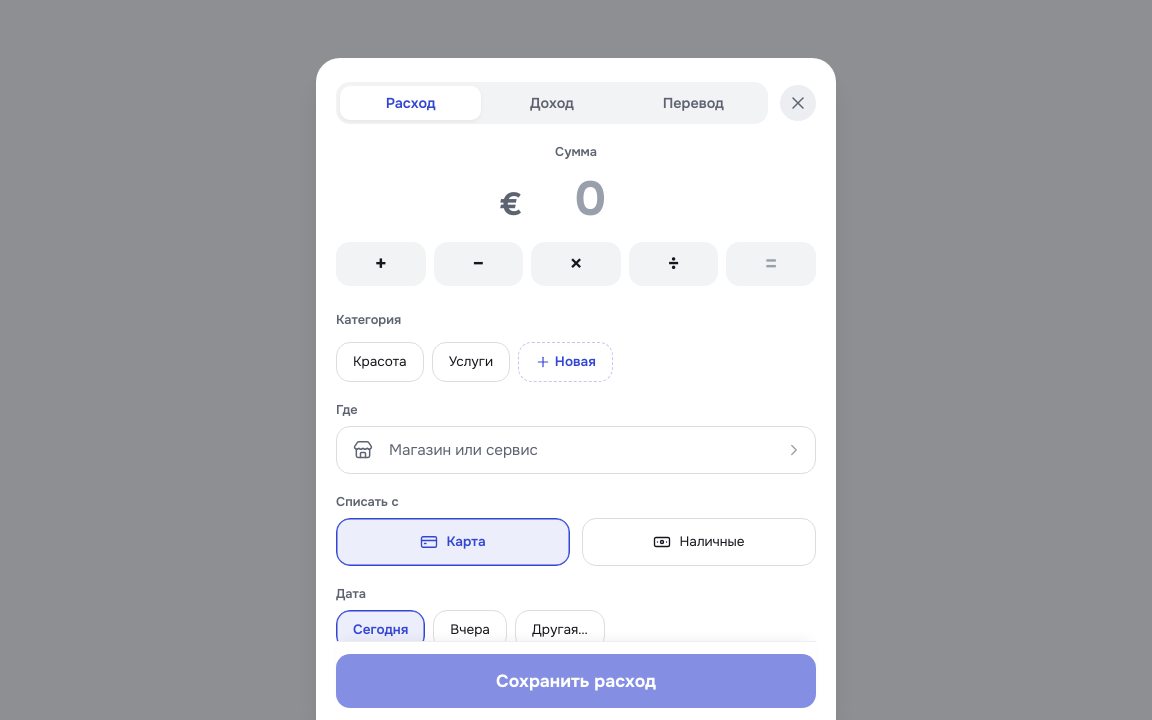
separate company selection and transaction comments › reuses a historical category override from a company suggestion, leaving the comment separate
This screenshot has width=1152, height=720.
Later steps or results of the test are not shown.
Type "34" into the field with placeholder "0" at (590, 199), box [526,168,653,230]
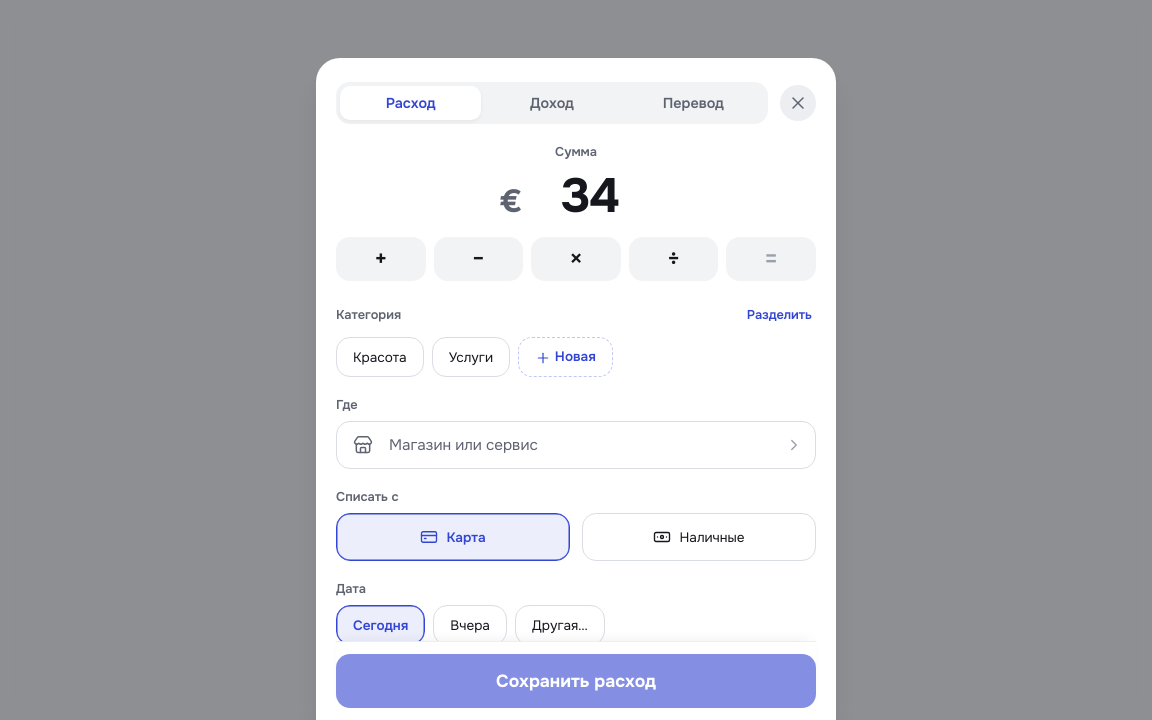
Click the button "Красота" at (380, 357), box [336,337,424,377]
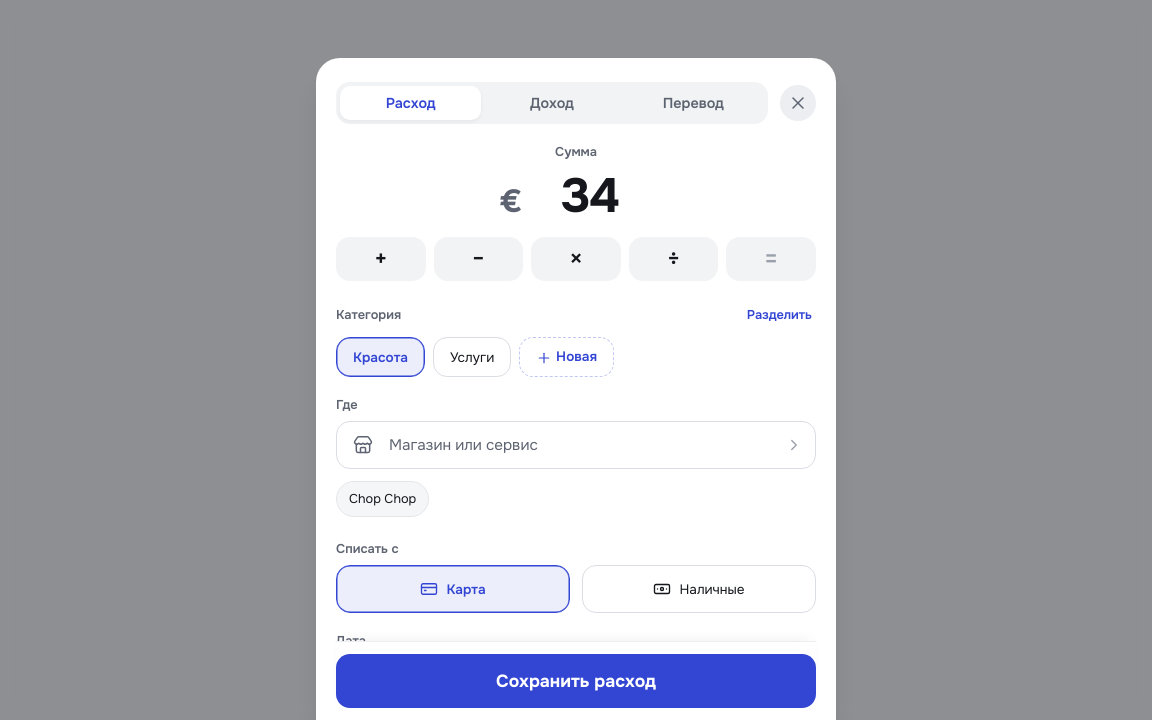
Click the button "Магазин или сервис" at (463, 445), box [336,421,816,469]
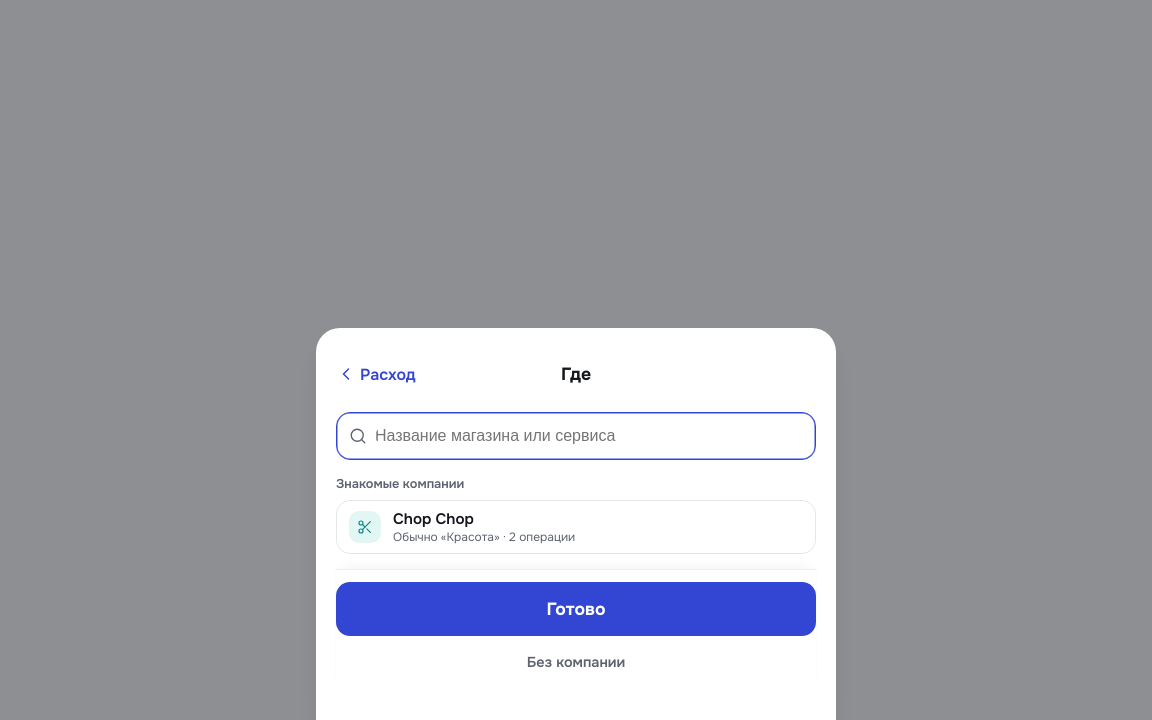
Click the button "Chop Chop Обычно «Красота» · 2 операции" at (576, 527), box [337,501,815,553]
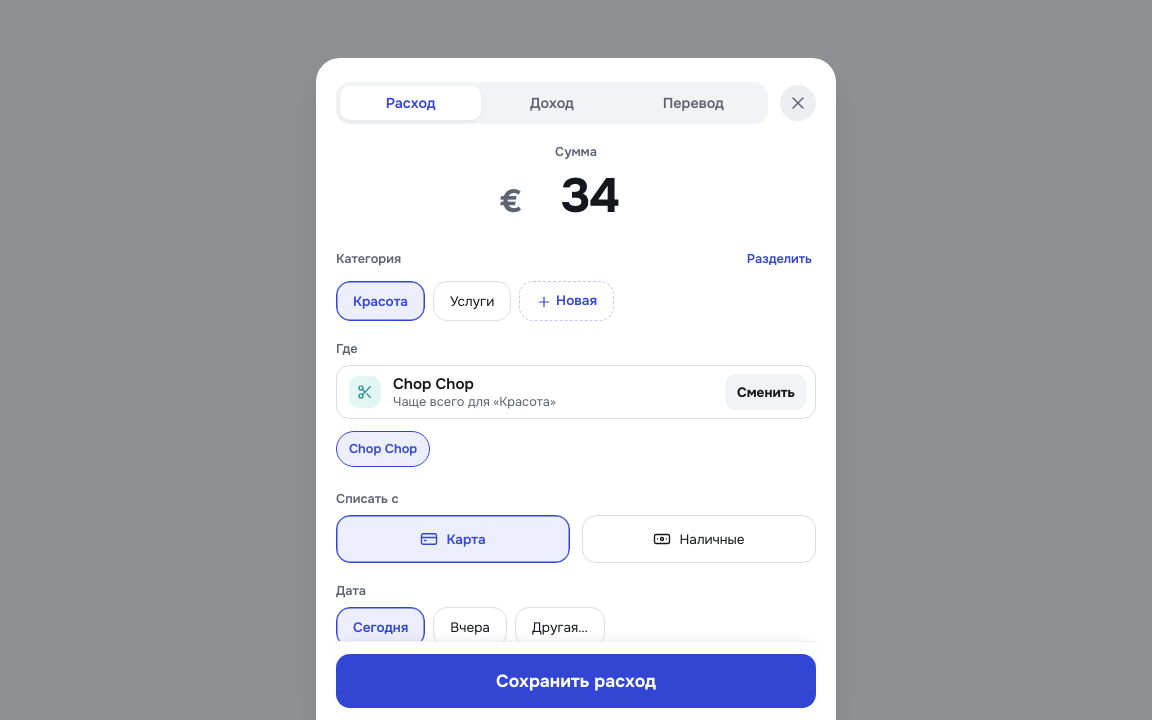
Expected: the button "Chop Chop Чаще всего для «Красота» Сменить" is shown
Click the button "Chop Chop Чаще всего для «Красота» Сменить" at (365, 392), box [336,365,816,419]
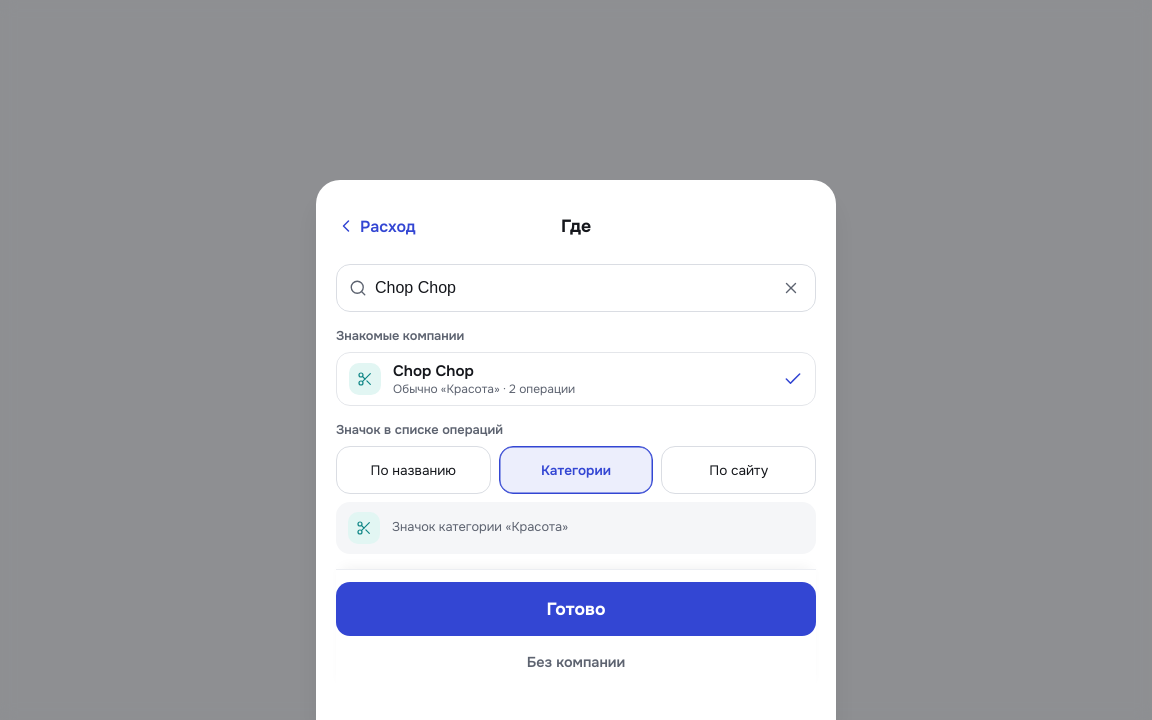
Expected: the message reads "Значок категории «Красота»", [392,519,568,535]
